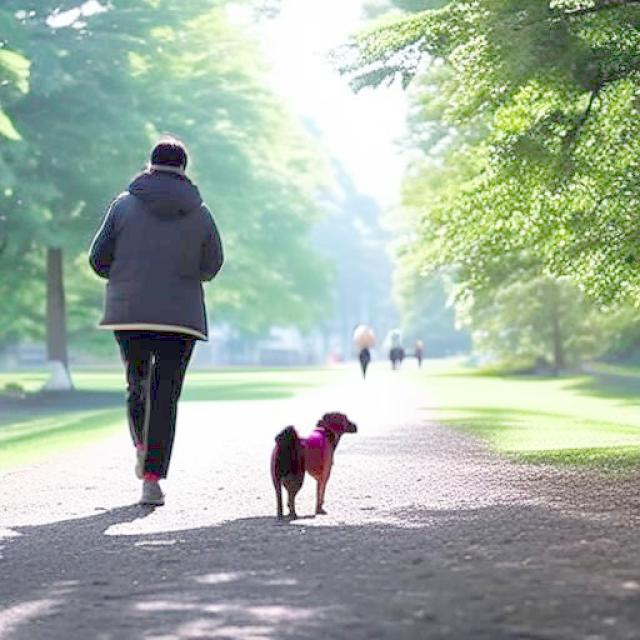Unleashed_Dog: (114, 284, 358, 520)
